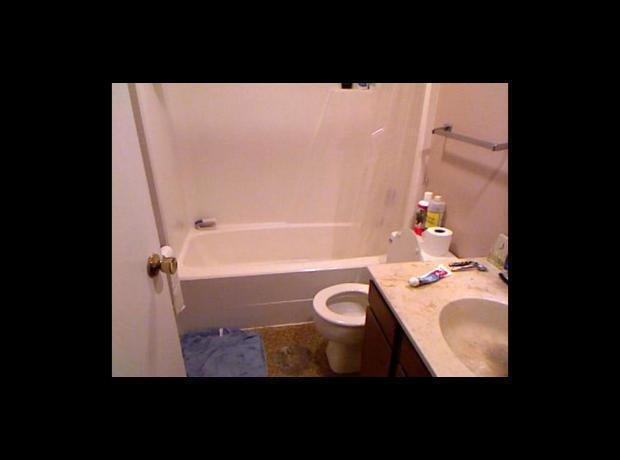Lavamanos: (436, 274, 506, 375)
Sanitario: (305, 221, 463, 367)
